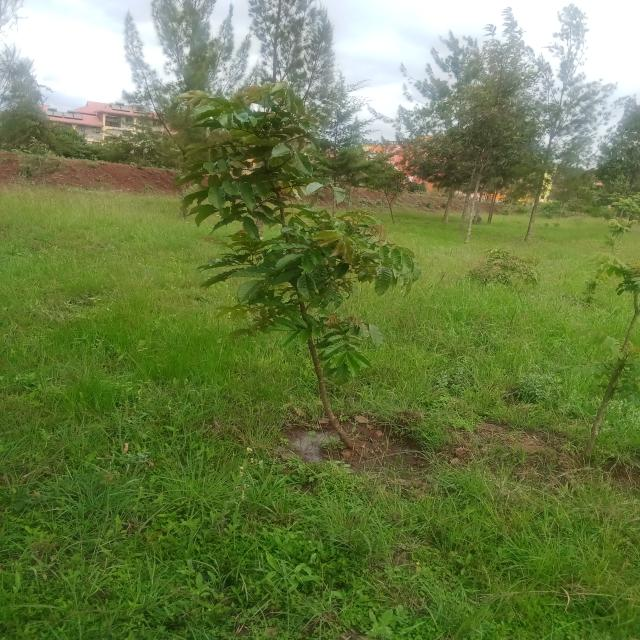Polyscias Kikuyensis: (166, 81, 448, 488)
